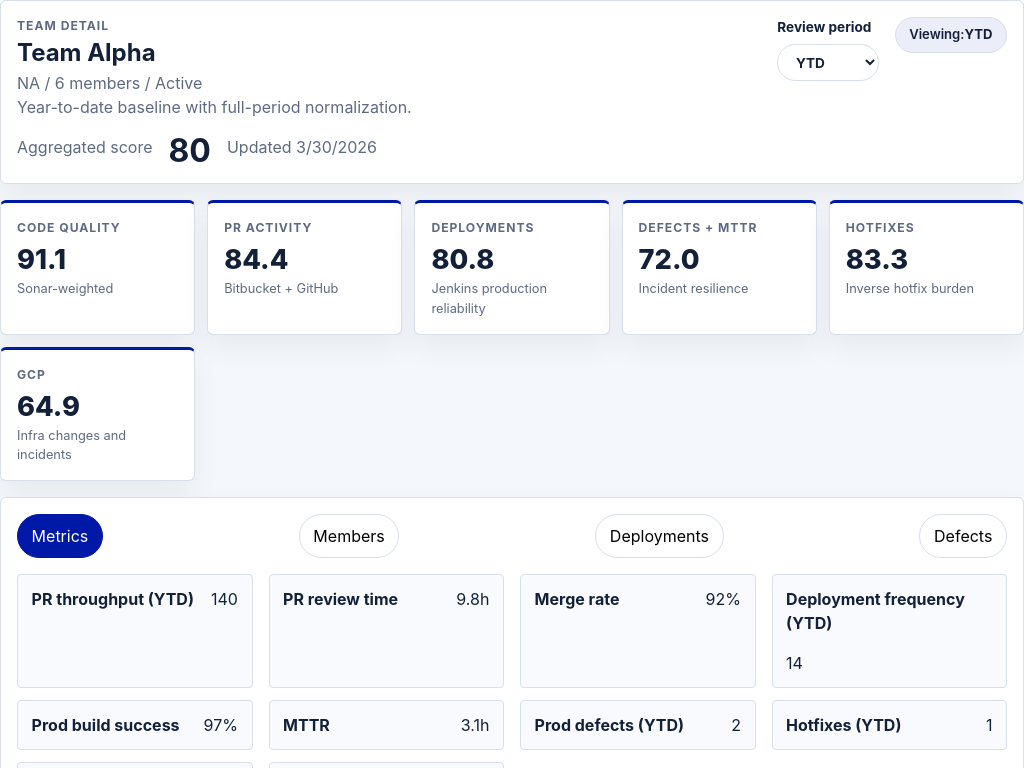
Team detail page › shows member list when switching to members tab
This screenshot has width=1024, height=768.
What coordinates should you click on to do the following:
click the button "Members"
I would click on:
 (349, 536)
Its box is left=299, top=514, right=399, bottom=558.
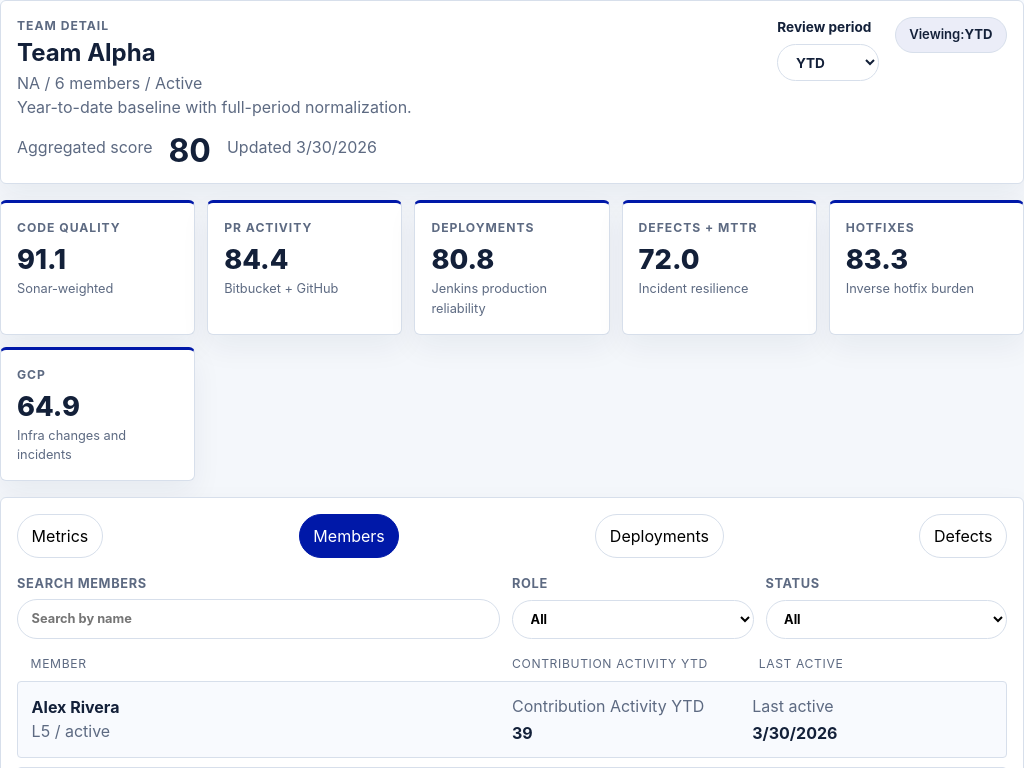
Expected: the text "Alex Rivera" is shown, left=32, top=698, right=119, bottom=718
Expected: the element with test id "team-members-head" shows "Contribution Activity YTD", left=512, top=656, right=708, bottom=671
